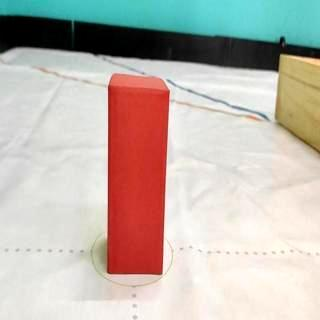redbox: (108, 74, 169, 276)
